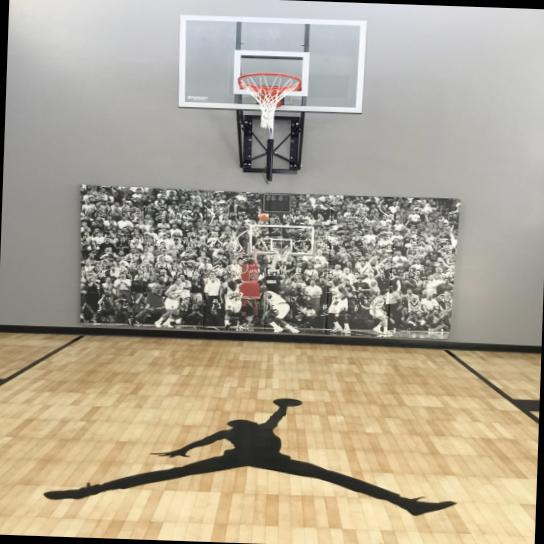basketball-hoop: (234, 70, 307, 133)
